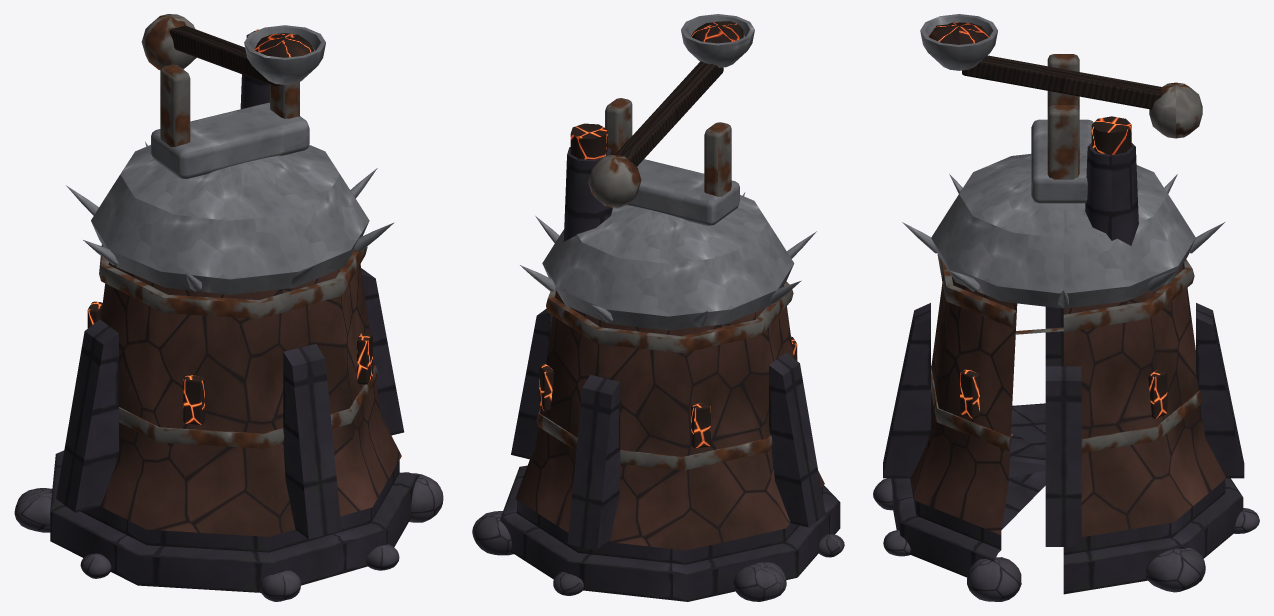
File: ember.glb
The picture shows the model from 3 angles, left to right: view 1: azimuth 30°, elevation 25°; view 2: azimuth 150°, elevation 25°; view 3: azimuth 270°, elevation 25°; orthographic projection. The views are drawn at different scales.
Parts seen in each view (by area): view 1: Base, Turret; view 2: Base, Turret; view 3: Base, Turret.
Part boxes in pixels (x1,y1,x2,y2): Base: (14,29,443,601); Turret: (141,14,325,178); Base: (472,123,844,601); Turret: (588,14,754,225); Base: (873,116,1259,601); Turret: (920,14,1202,203).
Bounding box in the file's own units: 0.9388 × 1.39 × 0.9637.
Materials: 7 (7 with a texture image).
